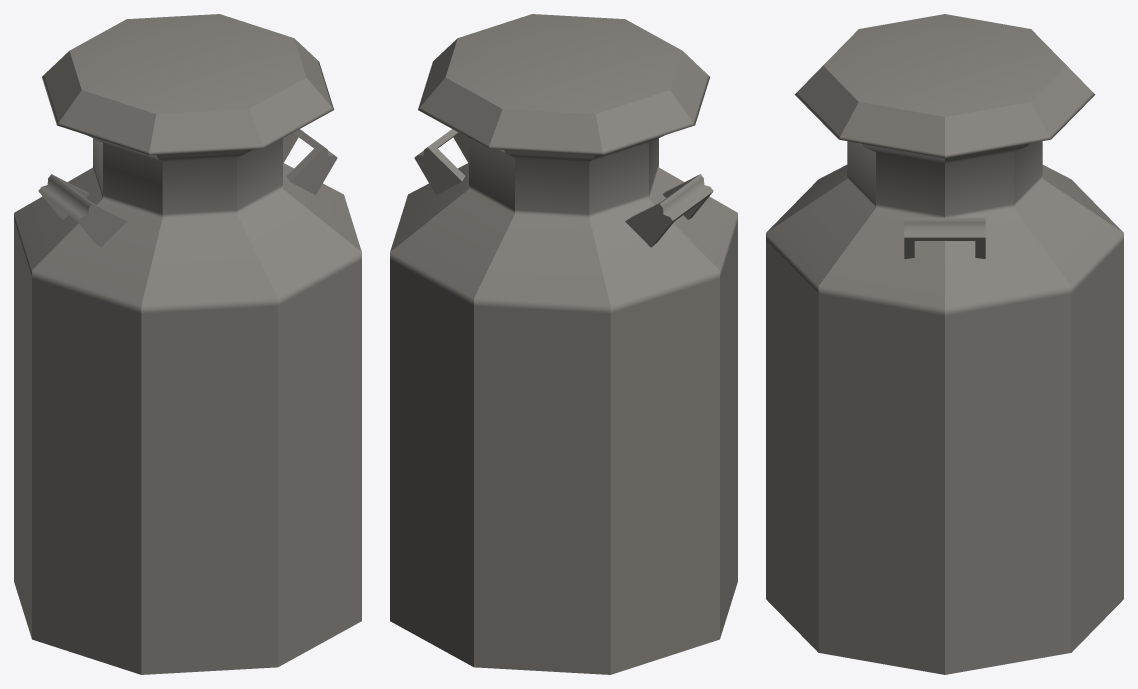
Rendered from milkCan.glb.
3 views of the same model, side by side, from view 1: azimuth 30°, elevation 25°; view 2: azimuth 150°, elevation 25°; view 3: azimuth 270°, elevation 25° (orthographic).
Parts seen in each view (by area): view 1: pCylinder20 milkCan, milkCan pCube5, milkCan pCube6; view 2: pCylinder20 milkCan, milkCan pCube5, milkCan pCube6; view 3: pCylinder20 milkCan, milkCan pCube6.
Boxes of the visible parts, left/top/right/bottom form: pCylinder20 milkCan: left=14, top=14, right=361, bottom=674; milkCan pCube5: left=38, top=174, right=126, bottom=247; milkCan pCube6: left=283, top=129, right=337, bottom=194; pCylinder20 milkCan: left=390, top=14, right=737, bottom=674; milkCan pCube5: left=625, top=174, right=713, bottom=247; milkCan pCube6: left=414, top=129, right=468, bottom=194; pCylinder20 milkCan: left=766, top=14, right=1123, bottom=674; milkCan pCube6: left=904, top=217, right=985, bottom=258.
Size of the model in its own units: 0.0108 by 0.0179 by 0.0108.
Materials: 1 (1 with a texture image).
